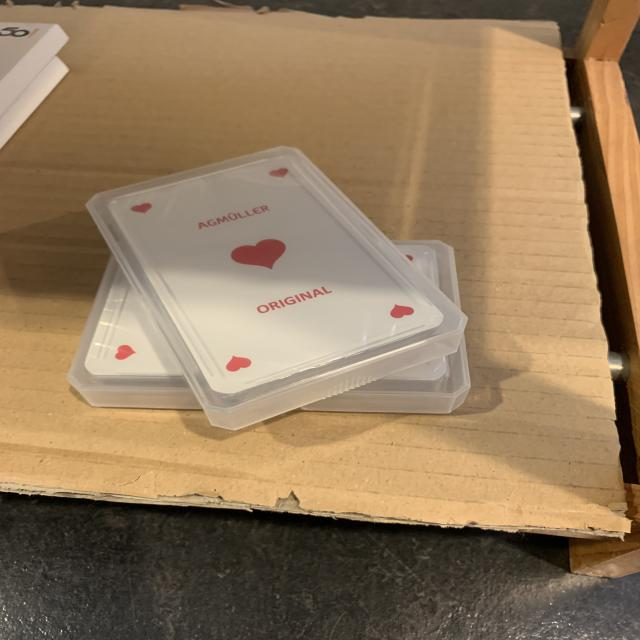Jasskarte: (87, 147, 466, 429), (70, 238, 473, 413)
